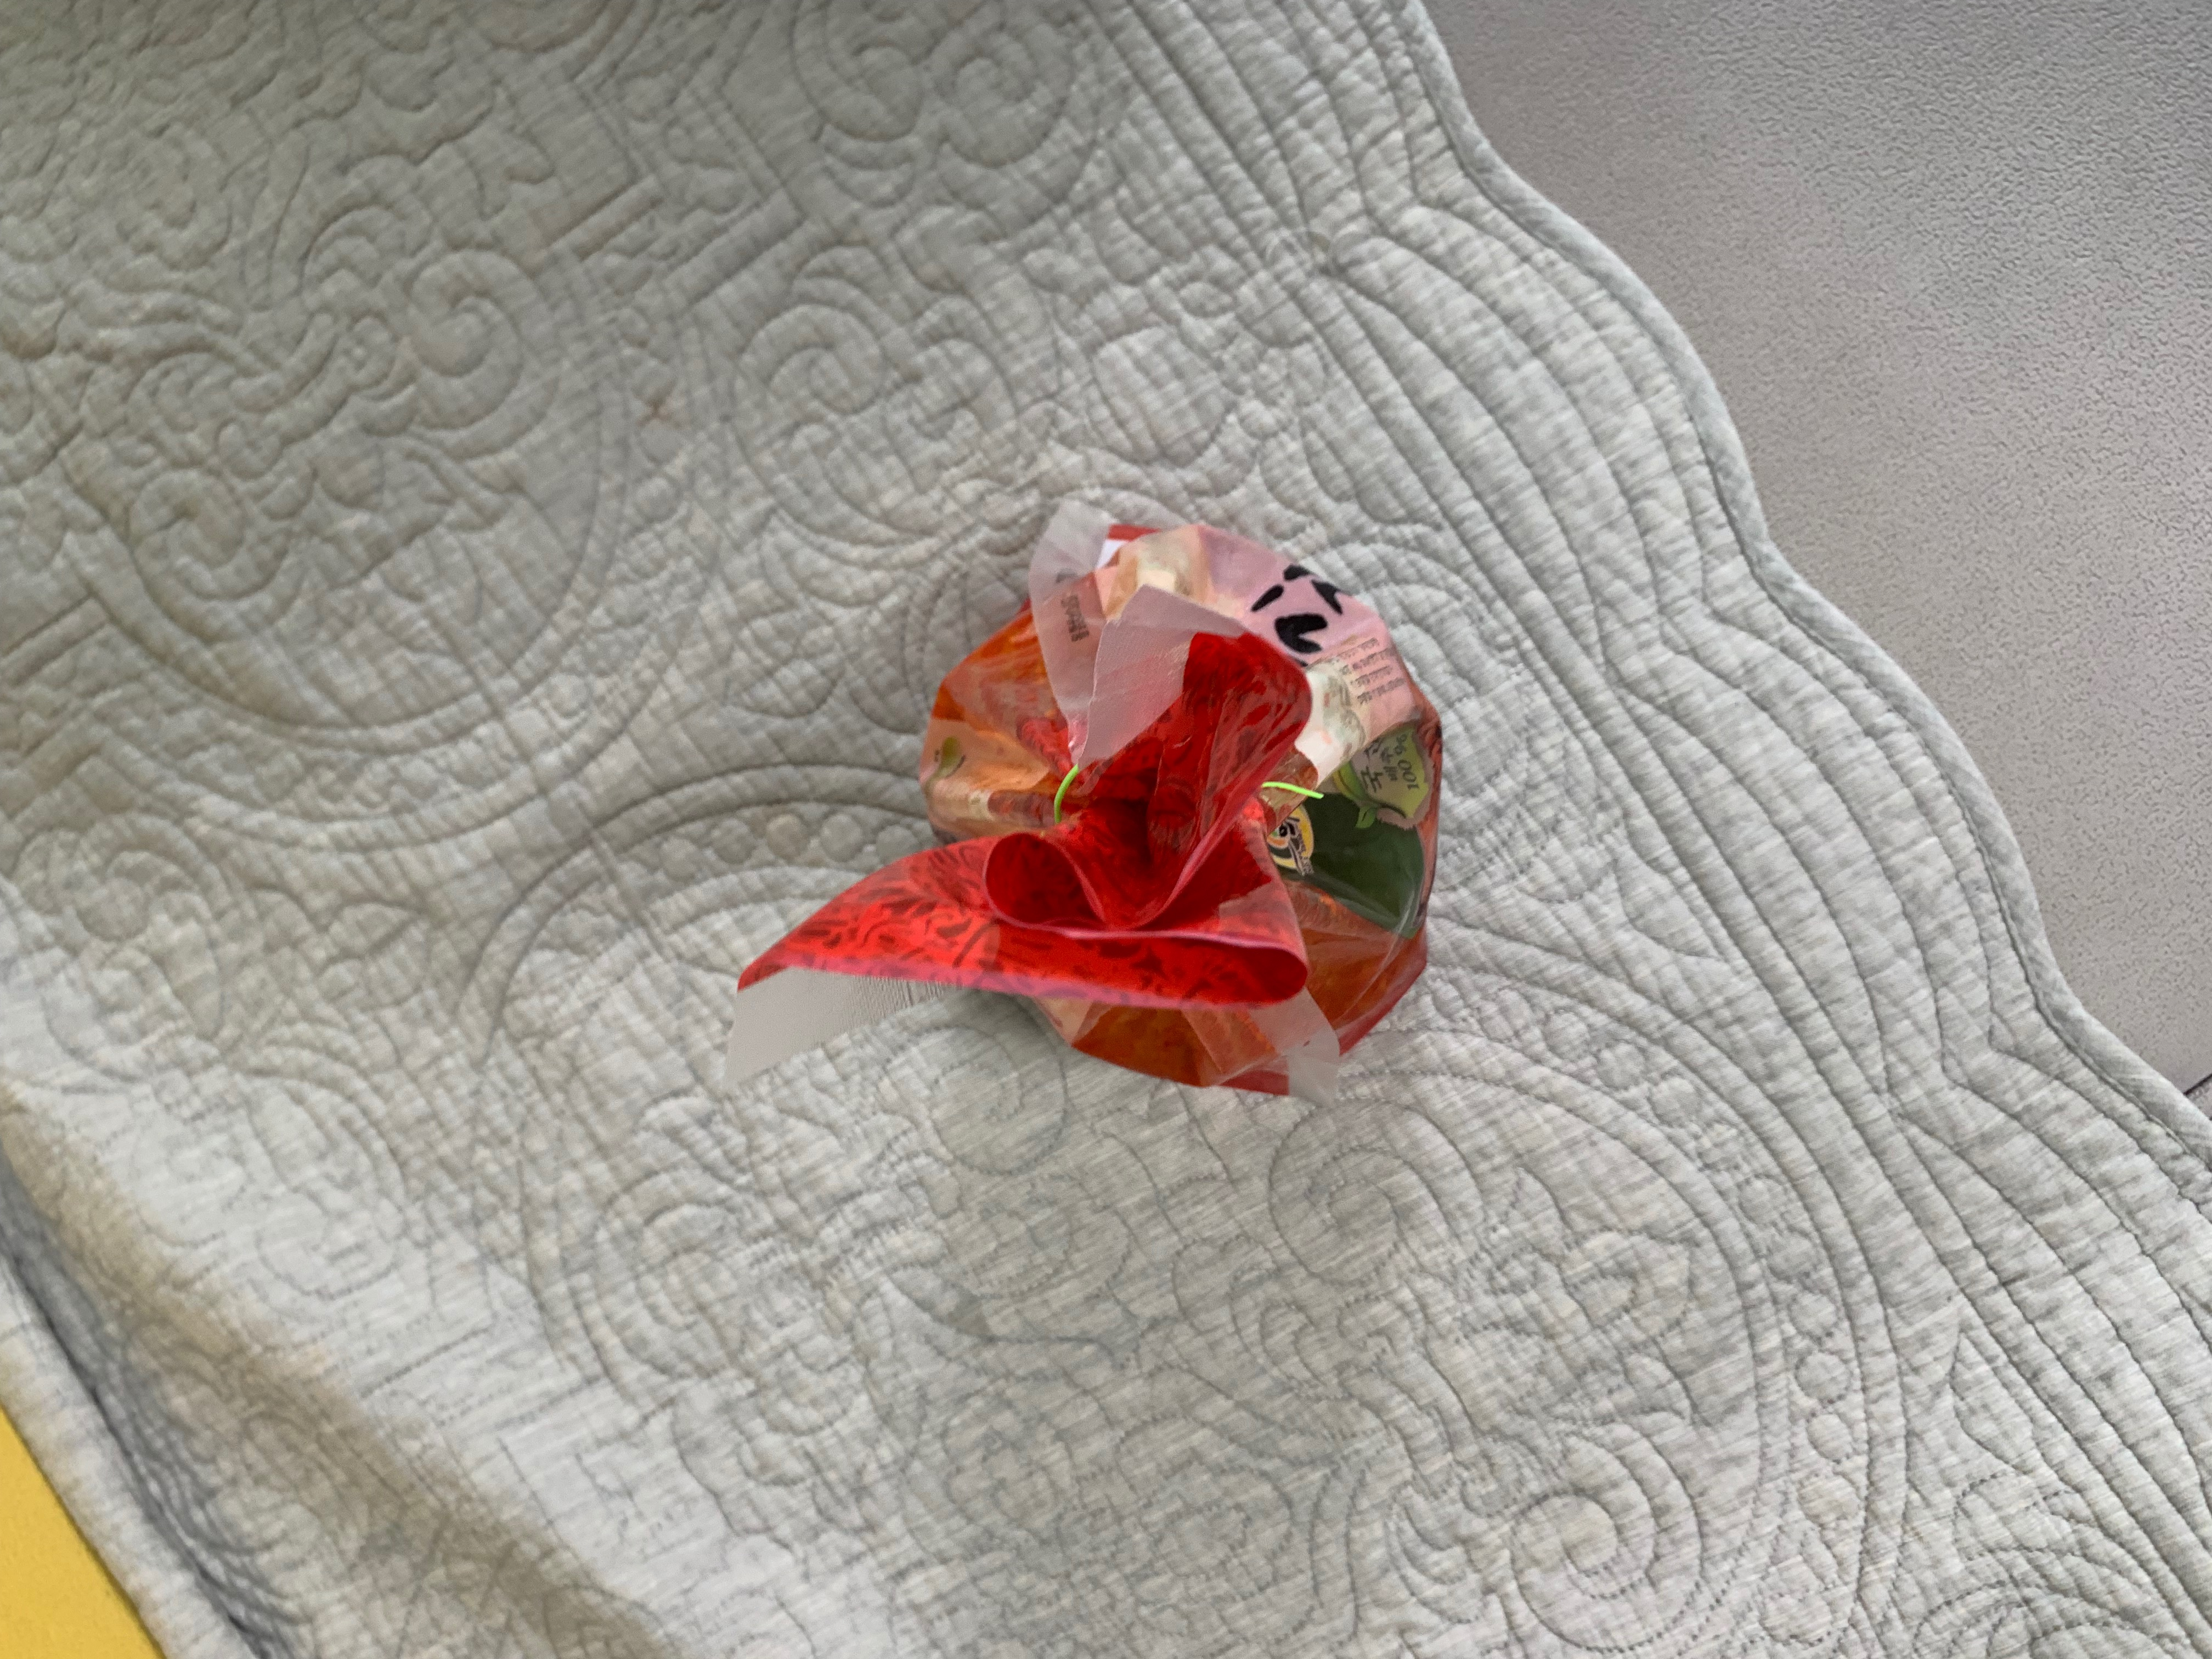kimchi: (918, 526, 1446, 1093)
